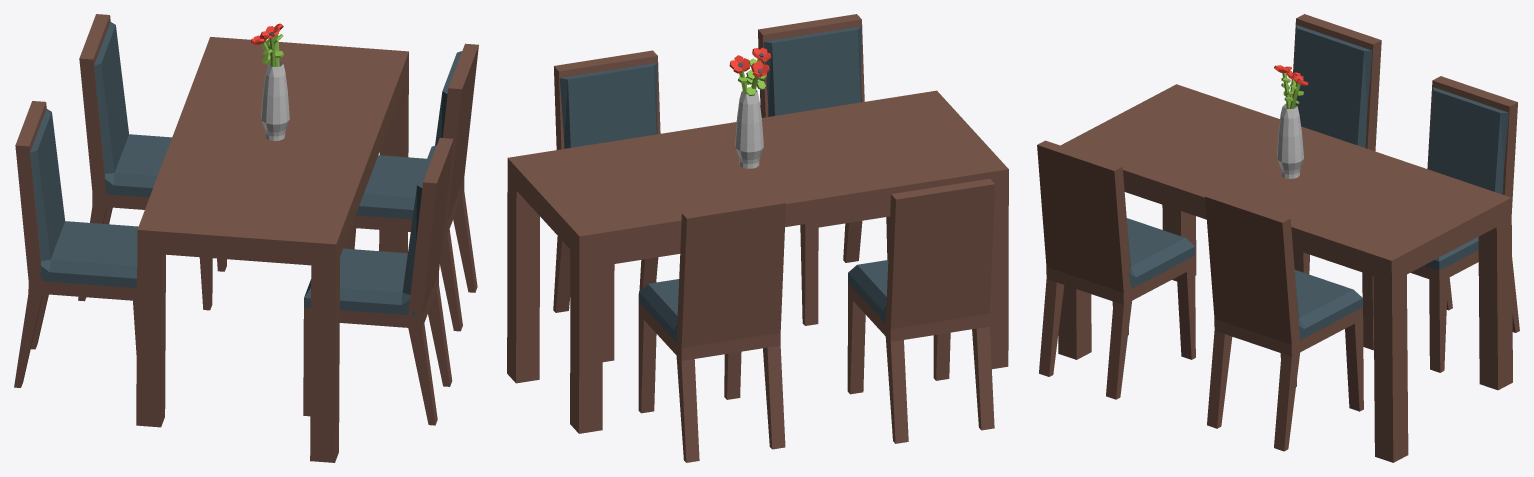
File: table.fbx
The picture shows the model from 3 angles, left to right: view 1: azimuth 30°, elevation 25°; view 2: azimuth 150°, elevation 25°; view 3: azimuth 270°, elevation 25°; orthographic projection. The views are drawn at different scales.
Parts seen in each view (by area): view 1: mesh_1955986462, mesh_475454369, mesh_687663957, mesh_1951306, mesh_2107454864, mesh_754166384, mesh_1287461248, mesh_145958757, mesh_1815207537, mesh_375444213, mesh_1495570720, mesh_1921375779 (+12 smaller); view 2: mesh_1955986462, mesh_1495570720, mesh_375444213, mesh_2107454864, mesh_145958757, mesh_1921375779, mesh_1696335163, mesh_754166384, mesh_1815207537, mesh_1287461248, mesh_1775658527, mesh_1481760287 (+17 smaller); view 3: mesh_1955986462, mesh_1815207537, mesh_1287461248, mesh_475454369, mesh_687663957, mesh_1921375779, mesh_1696335163, mesh_2107454864, mesh_145958757, mesh_1495570720, mesh_375444213, mesh_1951306 (+13 smaller).
Part boxes in pixels (x1,y1,x2,y2): mesh_1955986462: (137,37,408,267); mesh_475454369: (30,109,138,288); mesh_687663957: (94,22,171,197); mesh_1951306: (310,257,339,462); mesh_2107454864: (304,145,436,315); mesh_754166384: (136,252,165,427); mesh_1287461248: (408,138,453,315); mesh_145958757: (356,51,461,219); mesh_1815207537: (442,43,478,221); mesh_375444213: (79,14,110,194); mesh_1495570720: (15,101,46,281); mesh_1921375779: (379,74,408,253); mesh_1955986462: (507,90,1008,259); mesh_1495570720: (885,178,995,328); mesh_375444213: (676,197,785,347); mesh_2107454864: (763,26,861,116); mesh_145958757: (559,62,657,148); mesh_1921375779: (507,181,539,383); mesh_1696335163: (570,250,602,433); mesh_754166384: (990,192,1008,369); mesh_1815207537: (554,50,660,149); mesh_1287461248: (758,14,864,117); mesh_1775658527: (638,301,780,360); mesh_1481760287: (848,283,989,341); mesh_1955986462: (1060,84,1511,282); mesh_1815207537: (1205,192,1299,344); mesh_1287461248: (1037,140,1131,292); mesh_475454369: (1294,25,1372,147); mesh_687663957: (1424,87,1508,270); mesh_1921375779: (1373,274,1408,462); mesh_1696335163: (1478,219,1512,390); mesh_2107454864: (1126,218,1194,288); mesh_145958757: (1294,270,1362,340); mesh_1495570720: (1293,14,1381,151); mesh_375444213: (1427,76,1517,213); mesh_1951306: (1058,285,1091,359).
Bounding box in the file's own units: 6.08 × 4.29 × 5.96.
